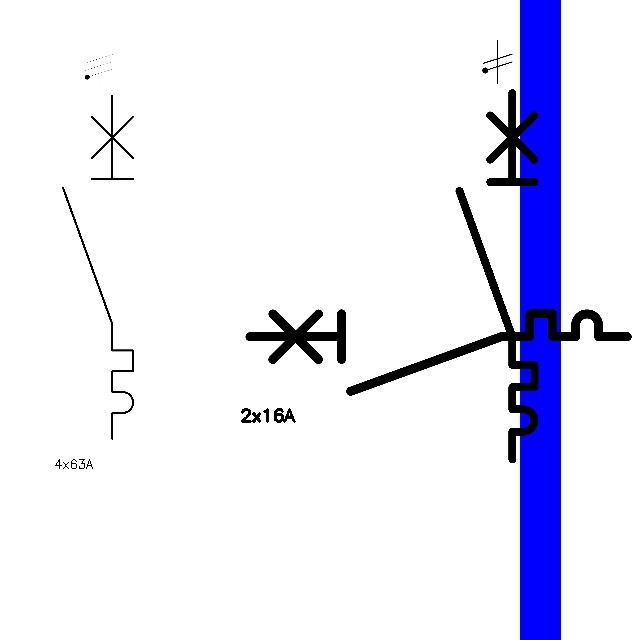interruptor_termomagnetico: (240, 304, 637, 401), (450, 83, 544, 468), (54, 86, 142, 447)
